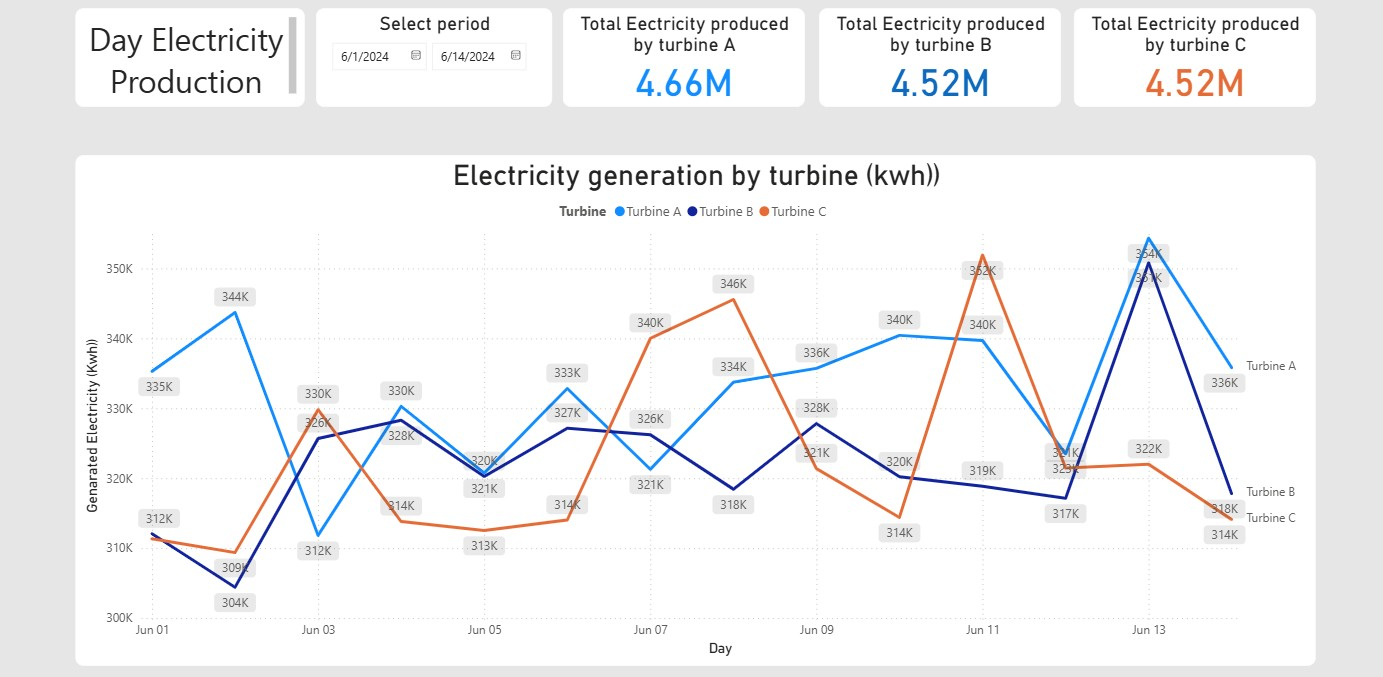

The dashboard page shown, as its layout file describes it:
{"tool":"powerbi","page":{"name":"Daily Electricity Production","canvas":[1280,720],"ordinal":0},"visuals":[{"type":"lineChart","title":"Electricity generation by turbine (kwh))","fields":{"Category":["fact_wind_power_production.date_id"],"Y":["Sum(fact_wind_power_production.energy_produced)"],"Series":["dim_turbine.turbine_name"]},"box":[12.8,169.7,1257.8,517.7],"z":0},{"type":"card","title":"Total Eectricity produced by turbine A","fields":{"Values":["Sum(fact_wind_power_production.energy_produced)"]},"box":[507.7,20,245.3,99.8],"z":1000},{"type":"card","title":"Total Eectricity produced by turbine B","fields":{"Values":["Sum(fact_wind_power_production.energy_produced)"]},"box":[767.2,20,245.3,99.8],"z":2000},{"type":"card","title":"Total Eectricity produced by turbine C","fields":{"Values":["Sum(fact_wind_power_production.energy_produced)"]},"box":[1025.3,20,245.3,99.8],"z":3000},{"type":"slicer","title":"Select period","fields":{"Values":["fact_wind_power_production.date_id"]},"box":[256.7,20,239.6,99.8],"z":4000},{"type":"textbox","box":[12.8,20,232.4,99.8],"z":5000}]}

Visuals, with their boxes on the page's 1280x720 design canvas (x1, y1, x2, y2). These are canvas units, not pixel positions in the 1383x677 screenshot, which may show the page scaled, cropped or inside an application window:
"Electricity generation by turbine (kwh))" lineChart: crop(13, 170, 1271, 687)
"Total Eectricity produced by turbine A" card: crop(508, 20, 753, 120)
"Total Eectricity produced by turbine B" card: crop(767, 20, 1012, 120)
"Total Eectricity produced by turbine C" card: crop(1025, 20, 1271, 120)
"Select period" slicer: crop(257, 20, 496, 120)
textbox: crop(13, 20, 245, 120)
